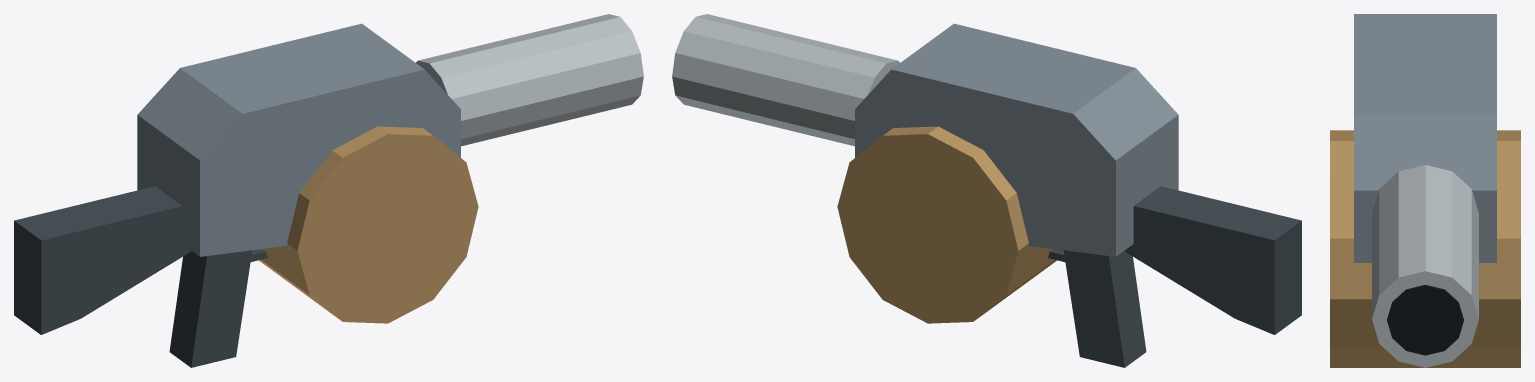
Rendered from w22-censer.glb.
The picture shows the model from 3 angles, left to right: view 1: azimuth 30°, elevation 25°; view 2: azimuth 150°, elevation 25°; view 3: azimuth 270°, elevation 25°; orthographic projection. The views are drawn at different scales.
Visible parts, largest first — view 1: w22-censer__receiver, w22-censer__feed_drum, w22-censer__barrel, w22-censer__stock, w22-censer__grip; view 2: w22-censer__receiver, w22-censer__feed_drum, w22-censer__barrel, w22-censer__stock, w22-censer__grip; view 3: w22-censer__receiver, w22-censer__feed_drum, w22-censer__barrel, w22-censer__barrel_bore.
Boxes of the visible parts, <box> form: w22-censer__receiver: <box>137,23,460,256</box>; w22-censer__feed_drum: <box>259,126,478,323</box>; w22-censer__barrel: <box>416,14,643,146</box>; w22-censer__stock: <box>14,186,191,334</box>; w22-censer__grip: <box>169,250,252,367</box>; w22-censer__receiver: <box>855,23,1178,256</box>; w22-censer__feed_drum: <box>837,126,1056,323</box>; w22-censer__barrel: <box>672,14,899,146</box>; w22-censer__stock: <box>1124,186,1301,334</box>; w22-censer__grip: <box>1063,250,1146,367</box>; w22-censer__receiver: <box>1354,14,1496,262</box>; w22-censer__feed_drum: <box>1330,130,1520,367</box>; w22-censer__barrel: <box>1372,165,1478,367</box>; w22-censer__barrel_bore: <box>1387,284,1463,355</box>.
Bounding box in the file's own units: 0.8214 × 0.345 × 0.2.
